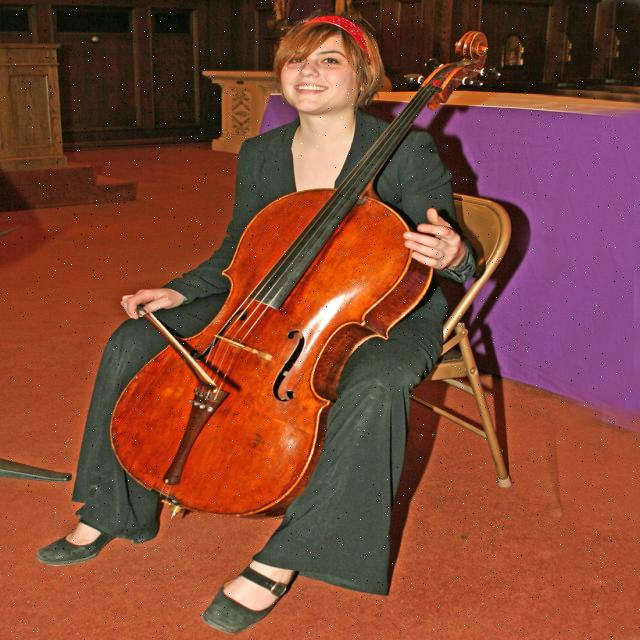cello: (106, 29, 492, 529)
